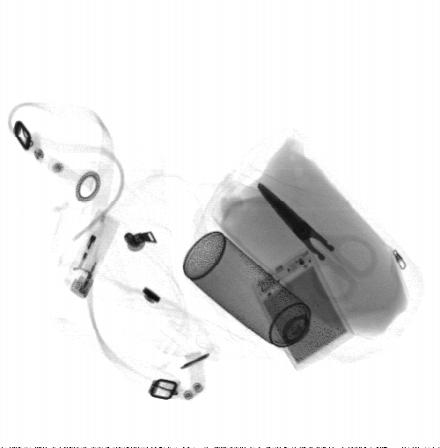Lighter: (65, 210, 122, 299)
Powerbank: (252, 248, 356, 372)
Scissors: (256, 181, 380, 303)
Sprayer: (182, 231, 315, 351)
